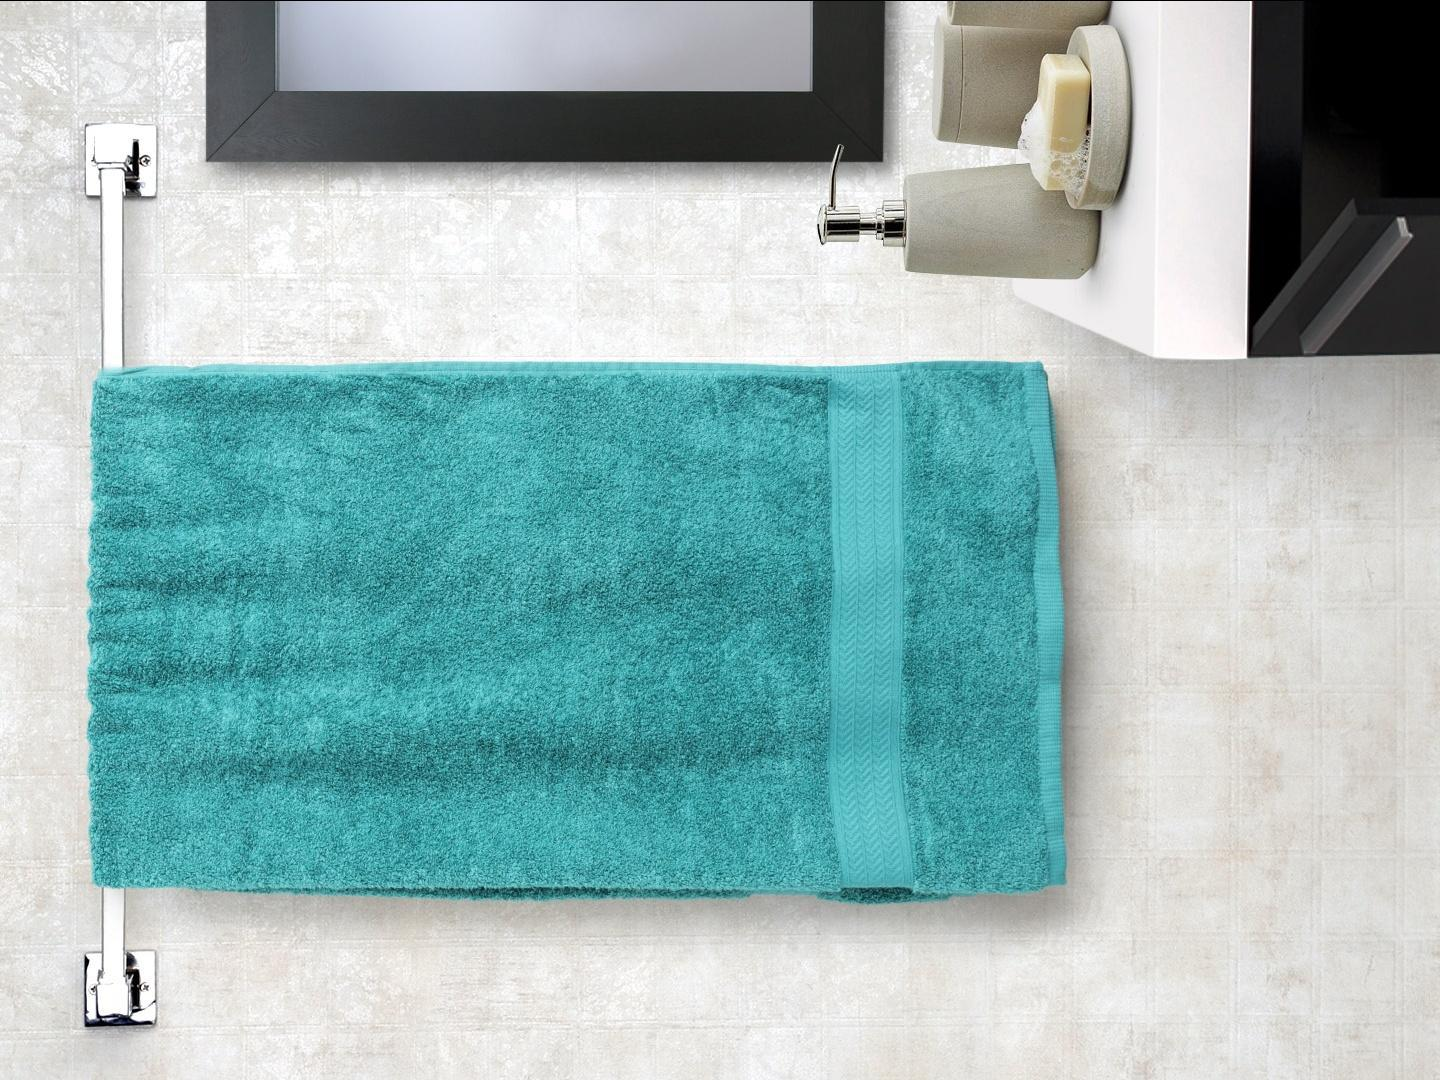towel: (35, 351, 1110, 965)
